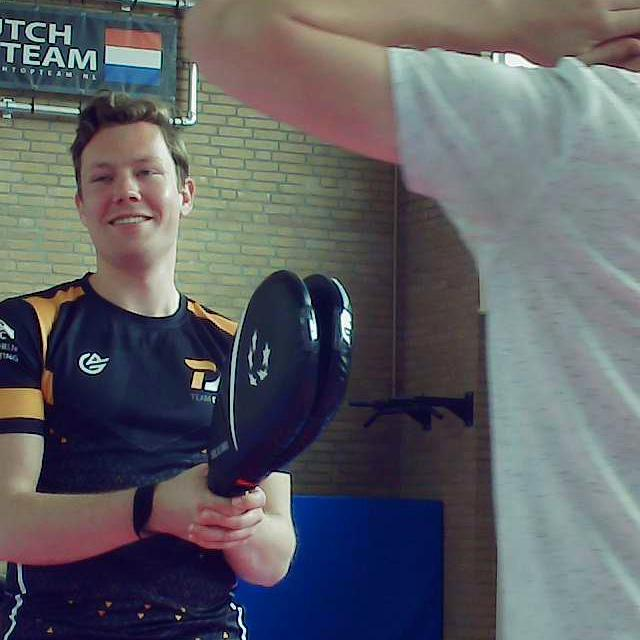paddle: (208, 273, 351, 497)
